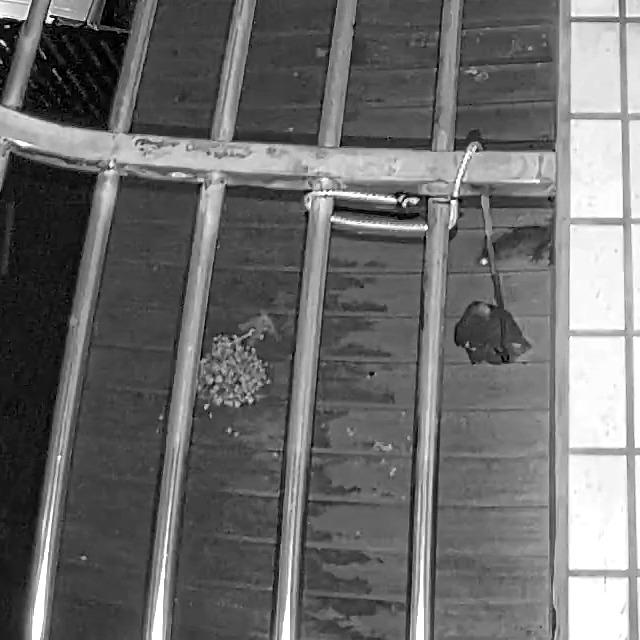rat: (474, 219, 556, 270)
